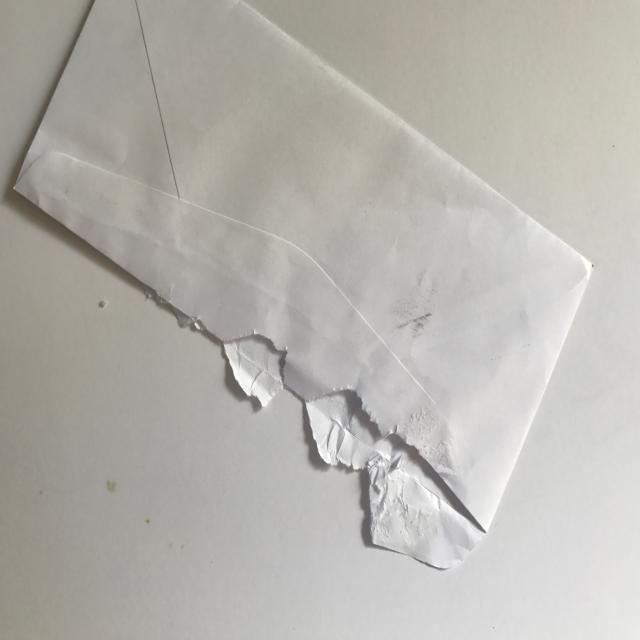paper: (1, 0, 604, 577)
